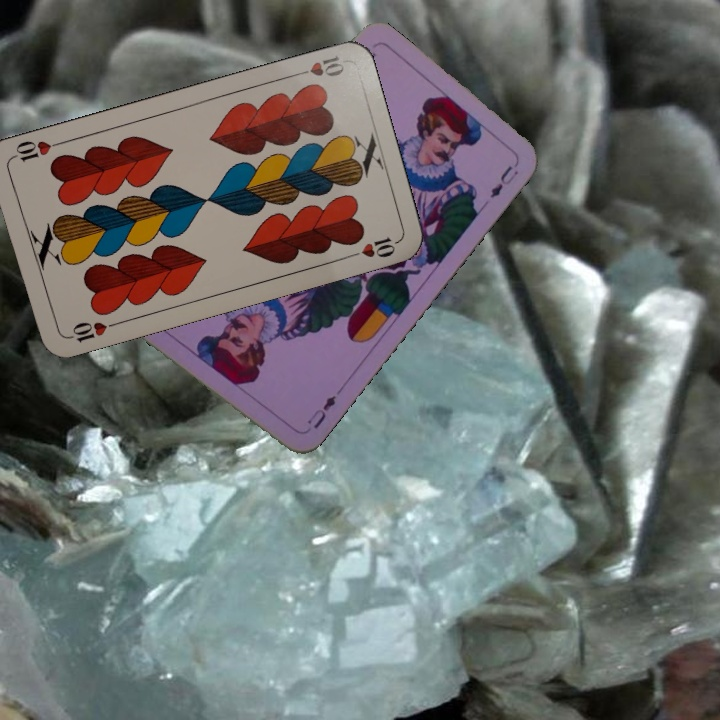EU: (303, 391, 339, 432)
H10: (289, 51, 347, 80), (63, 317, 121, 346)
